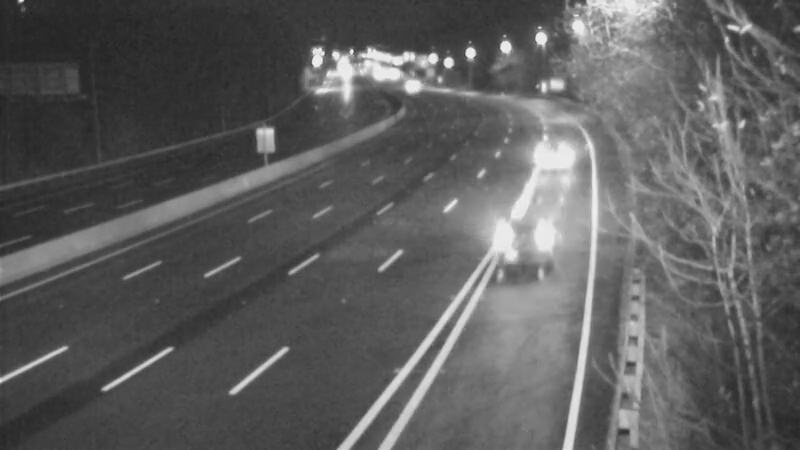vehicle: (471, 201, 551, 281), (383, 61, 433, 111), (539, 121, 589, 171)
